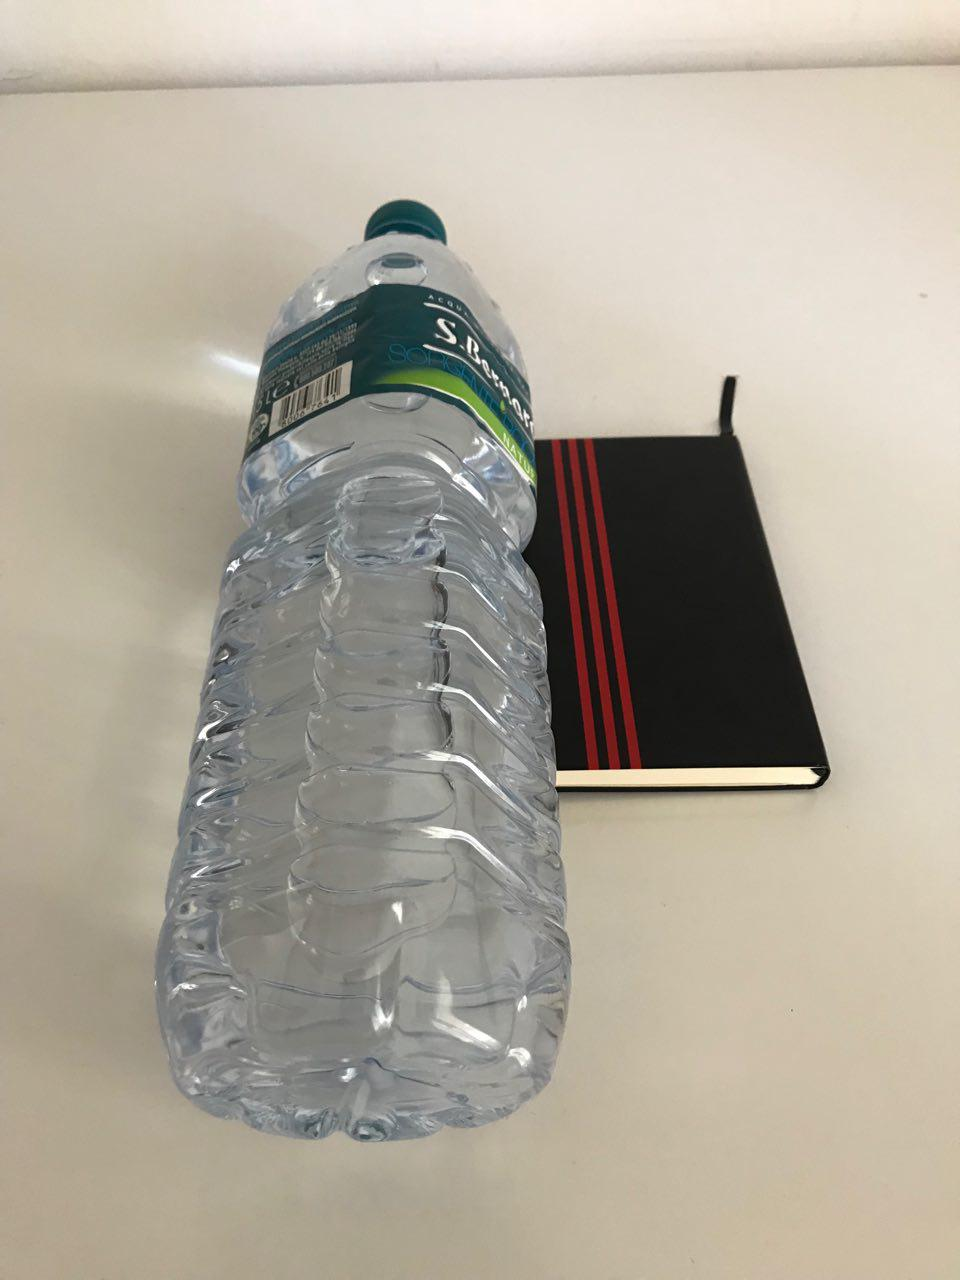san_bernardo: (150, 198, 574, 1146)
